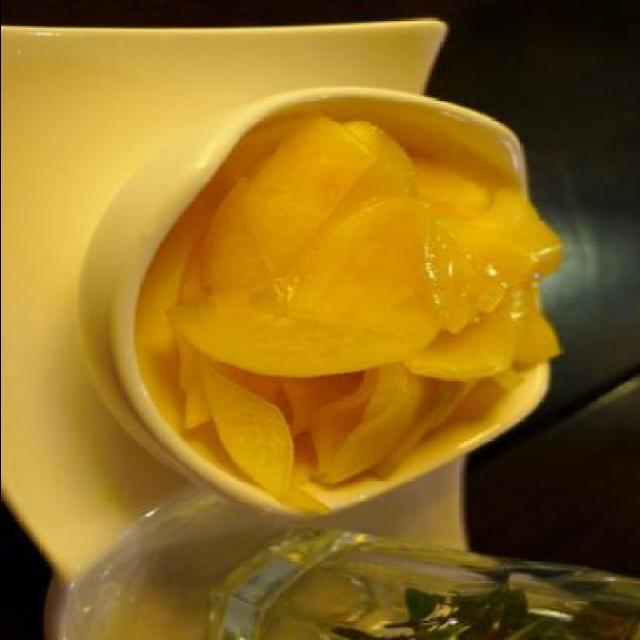Mango: (132, 107, 562, 511), (243, 110, 372, 278)
